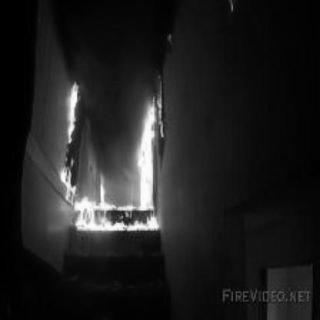Fire: (57, 157, 161, 234), (66, 77, 80, 146)
